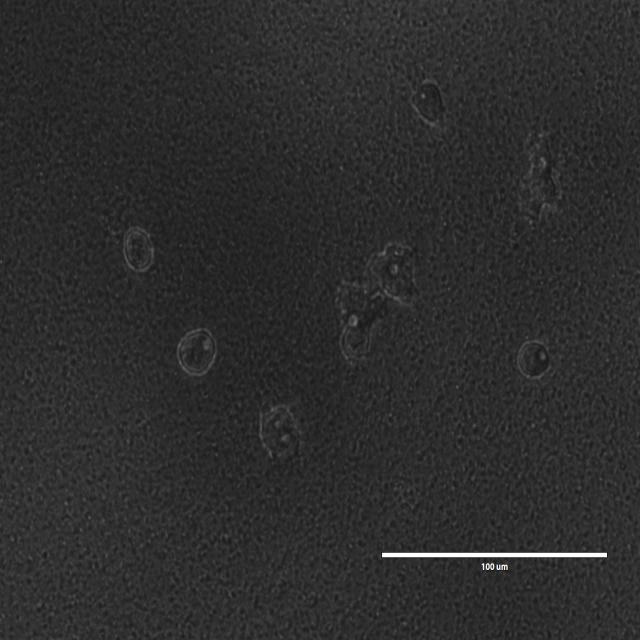Amoeba: (329, 282, 387, 364), (521, 139, 559, 220), (364, 244, 417, 302), (258, 405, 303, 459), (178, 326, 216, 375), (122, 226, 156, 273), (412, 81, 445, 127), (517, 341, 551, 382)
